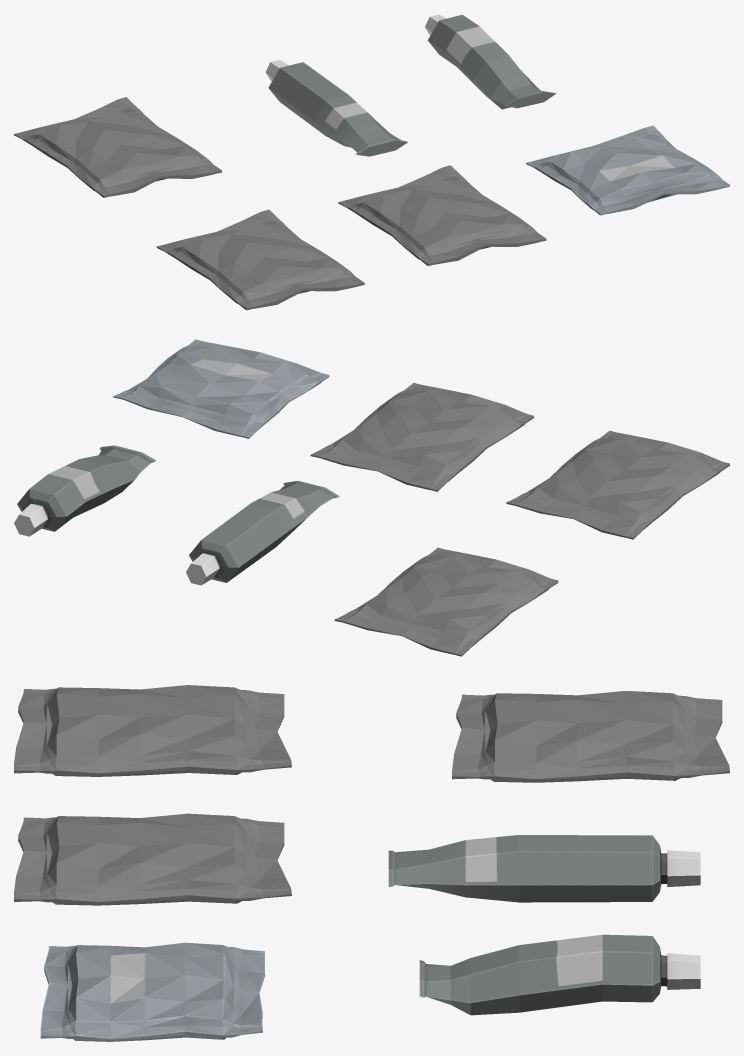
File: SpaceFood.obj
3 views of the same model, one above another, from view 1: azimuth 30°, elevation 25°; view 2: azimuth 150°, elevation 25°; view 3: azimuth 270°, elevation 25° (orthographic). The views are drawn at different scales.
Parts seen in each view (by area): view 1: SpaceFood_mesh; view 2: SpaceFood_mesh; view 3: SpaceFood_mesh.
Boxes of the visible parts, x1=… form: SpaceFood_mesh: x1=14, y1=14, x2=729, y2=310; SpaceFood_mesh: x1=14, y1=339, x2=729, y2=656; SpaceFood_mesh: x1=14, y1=685, x2=729, y2=1041.
Bounding box in the file's own units: 25.49 × 2.19 × 22.14.
Materials: 2 (1 with a texture image).
